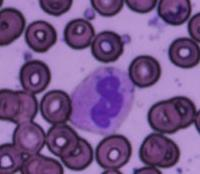N: (69, 64, 135, 135)
